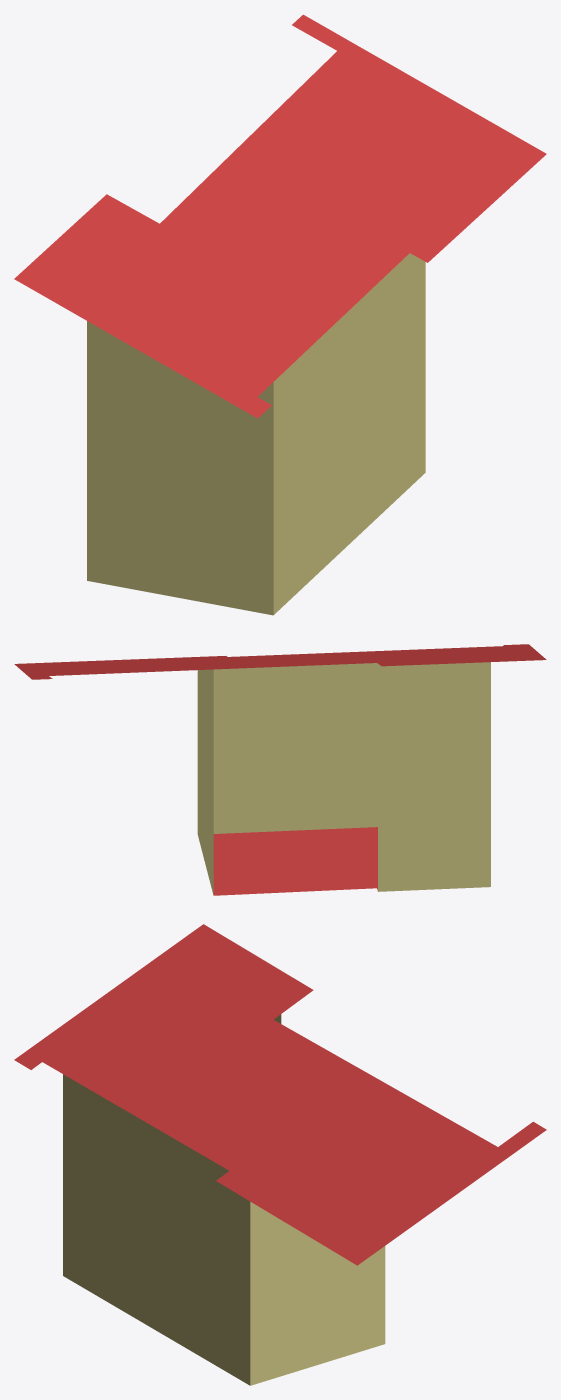
The picture shows the model from 3 angles, top to bottom: view 1: azimuth 30°, elevation 25°; view 2: azimuth 150°, elevation 25°; view 3: azimuth 270°, elevation 25°; orthographic projection. The views are drawn at different scales.
Size of the model in its own units: 14.6 by 12.54 by 7.19.
